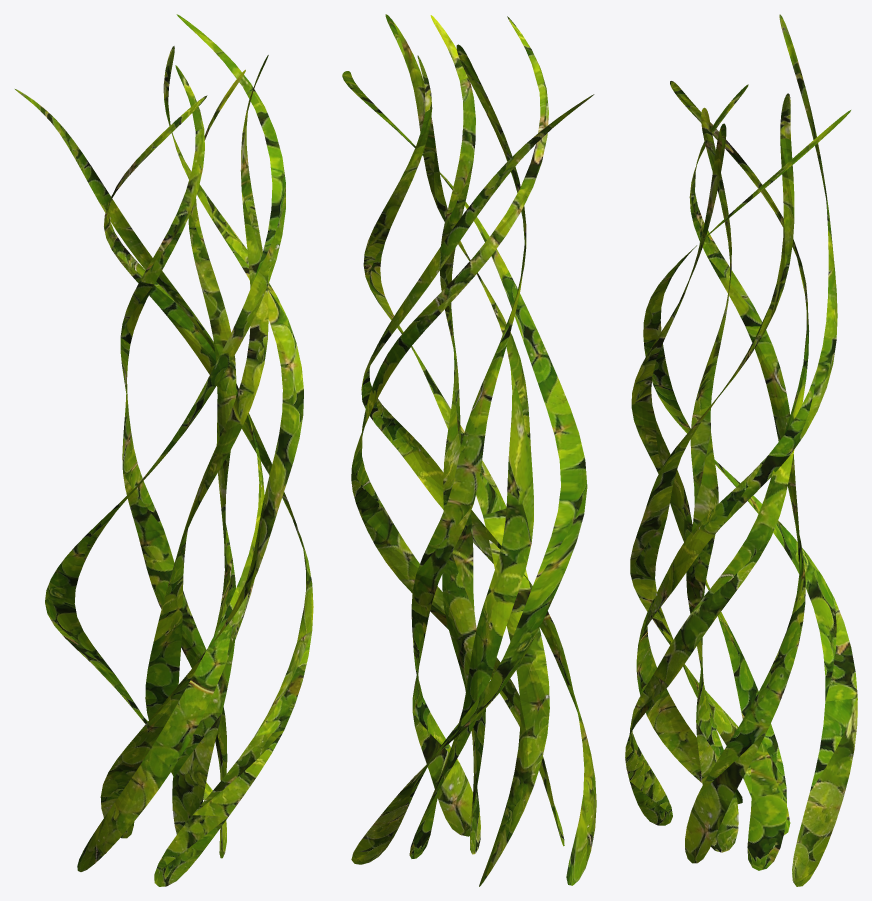
File: algae 2.glb
The picture shows the model from 3 angles, left to right: view 1: azimuth 30°, elevation 25°; view 2: azimuth 150°, elevation 25°; view 3: azimuth 270°, elevation 25°; orthographic projection. The views are drawn at different scales.
Parts seen in each view (by area): view 1: algae2; view 2: algae2; view 3: algae2.
Boxes of the visible parts, bbox=[...] form: algae2: bbox=[15, 14, 313, 886]; algae2: bbox=[342, 14, 596, 886]; algae2: bbox=[625, 14, 857, 886].
Size of the model in its own units: 0.6614 by 1.93 by 0.5281.
1 material, 1 textured.
